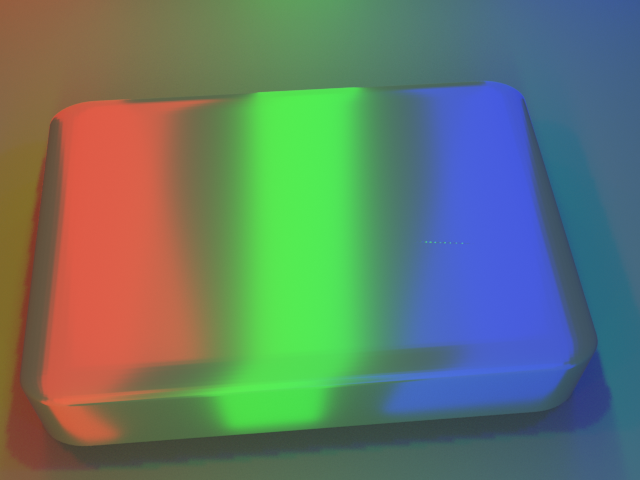scratch: (381, 198, 542, 291)
